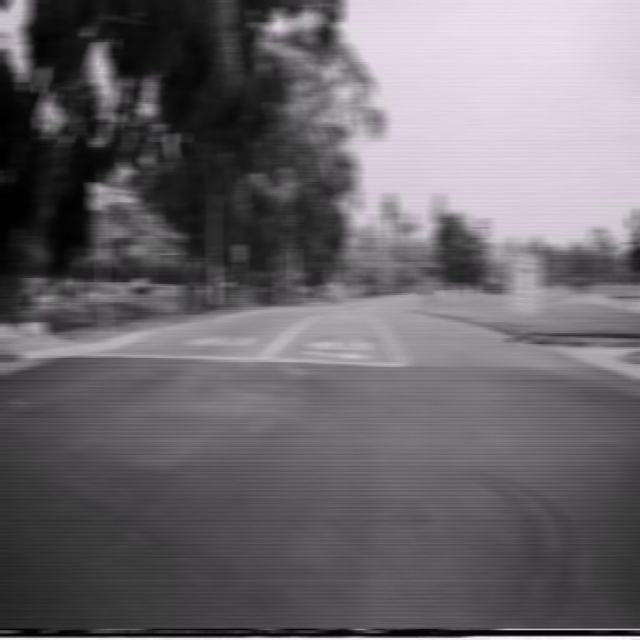speedLimit30: (477, 215, 489, 244)
